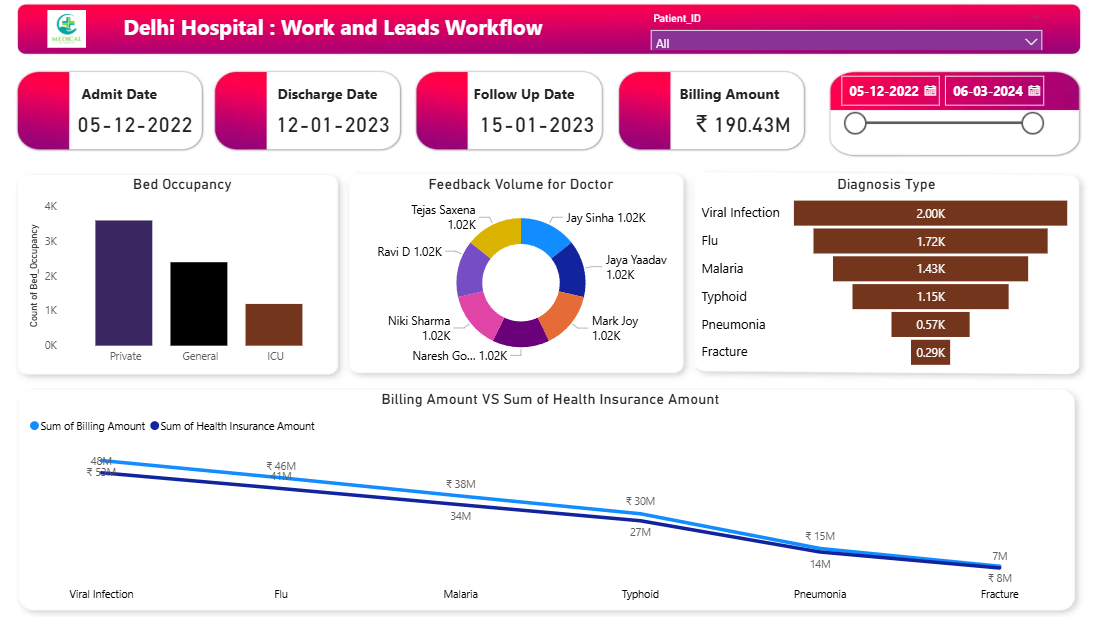

Layout of this report page (visuals, bound fields, positions):
{"tool":"powerbi","page":{"name":"Page 1","canvas":[1280,720],"ordinal":0},"visuals":[{"type":"textbox","box":[150.4,19.4,543.4,47.8],"z":0},{"type":"slicer","fields":{"Values":["Sheet1.Patient_ID"]},"box":[746.2,19.4,465.9,47.8],"z":1000},{"type":"card","fields":{"Values":["Sheet1.Admit_Date"]},"box":[91.1,125.3,154.9,52.4],"z":2000},{"type":"textbox","box":[102.5,101.4,108.2,47.8],"z":3000},{"type":"textbox","box":[325.8,101.4,135.6,47.8],"z":4000},{"type":"card","fields":{"Values":["Sheet1.Discharge_Date"]},"box":[316.7,125.3,154.9,52.4],"z":5000},{"type":"textbox","box":[549.1,101.4,135.6,47.8],"z":6000},{"type":"card","fields":{"Values":["Sheet1.Followup Date"]},"box":[549.1,125.3,154.9,52.4],"z":7000},{"type":"textbox","box":[783.8,101.4,135.6,47.8],"z":8000},{"type":"card","fields":{"Values":["Sheet1.Billing Amount"]},"box":[783.8,125.3,154.9,52.4],"z":9000},{"type":"slicer","fields":{"Values":["Sheet1.Admit_Date"]},"box":[960.4,86.6,251.8,80.9],"z":10000},{"type":"columnChart","title":"Bed Occupancy","fields":{"Category":["Sheet1.Bed_Occupancy"],"Y":["Sheet1.Bed_Occupancy"]},"box":[43.3,209.6,358.9,224.4],"z":11000},{"type":"donutChart","title":"Feedback Volume for Doctor","fields":{"Category":["Sheet1.Doctor"],"Y":["Sheet1.Doctor"]},"box":[432.9,209.6,350.9,224.4],"z":12000},{"type":"funnel","title":"Diagnosis Type","fields":{"Category":["Sheet1.Diagnosis"],"Y":["Sheet1.Diagnosis"]},"box":[808.9,209.6,431.8,224.4],"z":13000},{"type":"lineChart","title":"Billing Amount VS Sum of Health Insurance Amount","fields":{"Y":["Sheet1.Billing Amount","Sheet1.Health Insurance Amount"],"Category":["Sheet1.Diagnosis"]},"box":[43.3,454.6,1197.3,250.6],"z":14000},{"type":"image","box":[63.8,13.7,53.5,58.1],"z":15000}]}

Visuals, with their boxes in screenshot pixels (x1, y1, x2, y2), scaled from the page's 1280x720 canvas onto the 1103x617 screenshot:
textbox: (130,17,598,58)
slicer - Sheet1.Patient_ID: (643,17,1044,58)
card - Sheet1.Admit_Date: (79,107,212,152)
textbox: (88,87,182,128)
textbox: (281,87,398,128)
card - Sheet1.Discharge_Date: (273,107,406,152)
textbox: (473,87,590,128)
card - Sheet1.Followup Date: (473,107,607,152)
textbox: (675,87,792,128)
card - Sheet1.Billing Amount: (675,107,809,152)
slicer - Sheet1.Admit_Date: (828,74,1045,144)
"Bed Occupancy" columnChart: (37,180,347,372)
"Feedback Volume for Doctor" donutChart: (373,180,675,372)
"Diagnosis Type" funnel: (697,180,1069,372)
"Billing Amount VS Sum of Health Insurance Amount" lineChart: (37,390,1069,604)
image: (55,12,101,62)
